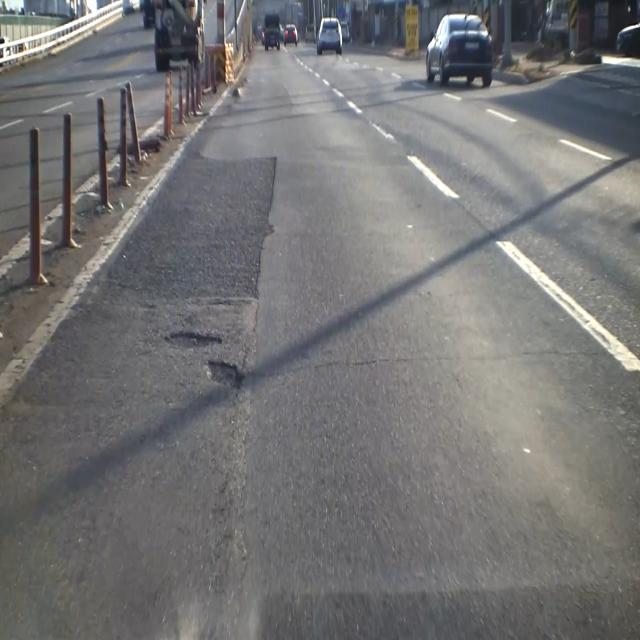Buraco: (201, 358, 248, 392), (160, 329, 226, 351)
